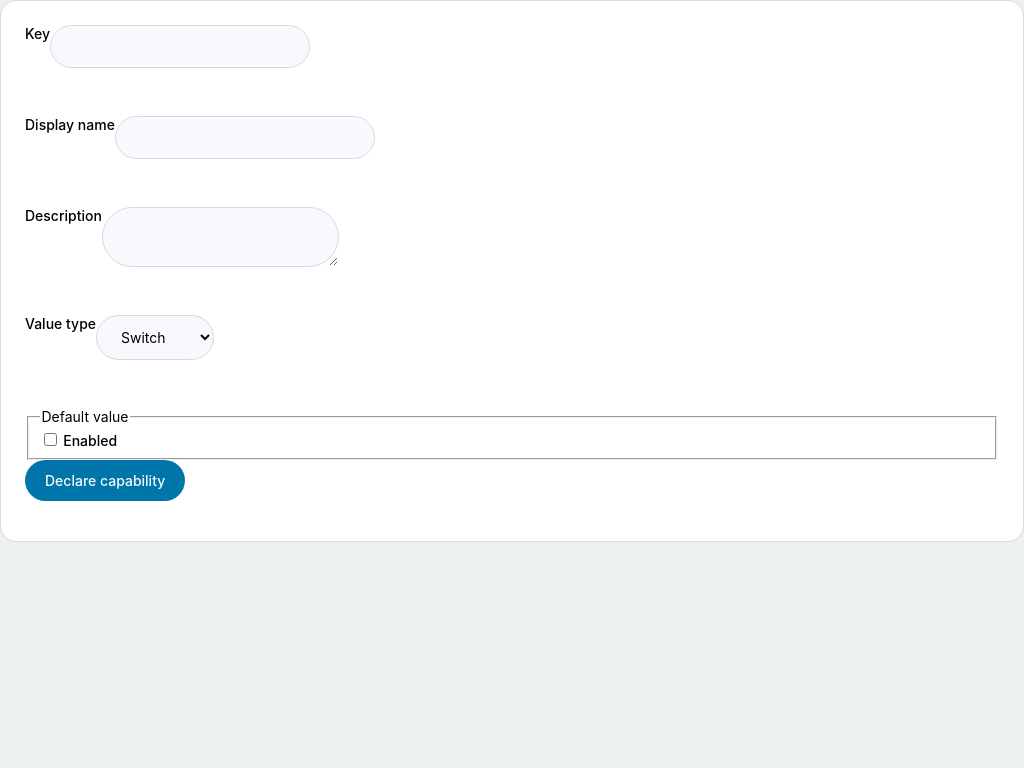
Scenario: CapabilityCreateForm › reports a rejected declaration through the shared error notice
Type "reports.monthly" into the field labelled "Key" at (180, 46), box [50, 25, 310, 68]
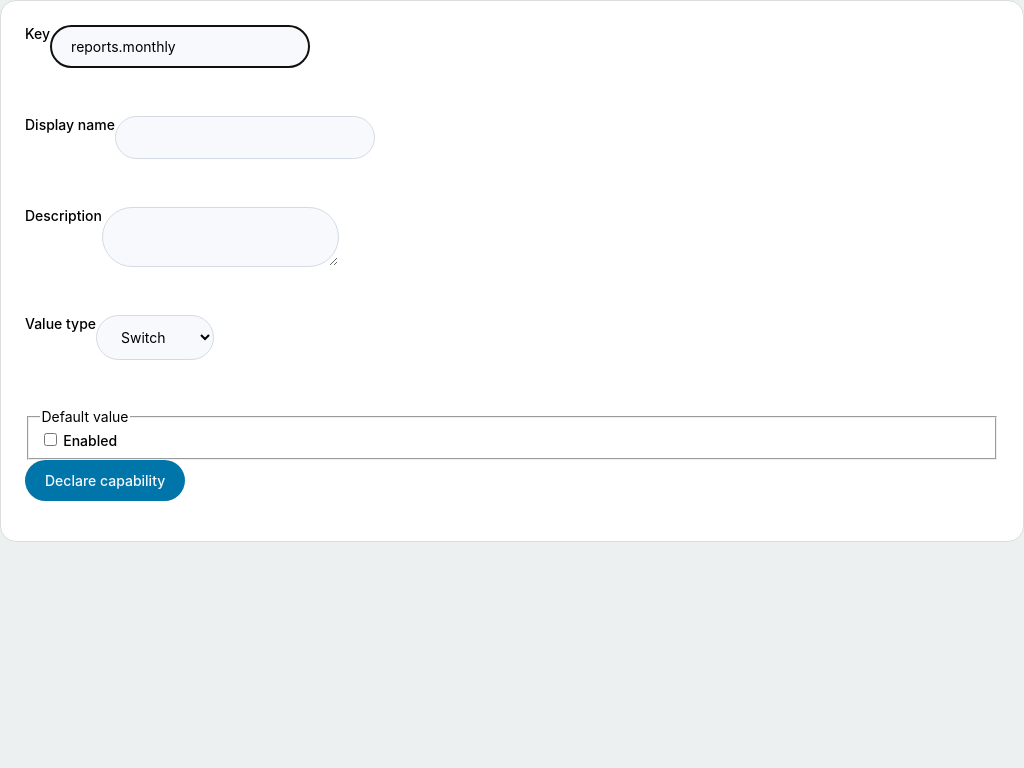
Type "Monthly reports" into the field labelled "Display name" at (245, 138), box [115, 116, 375, 159]
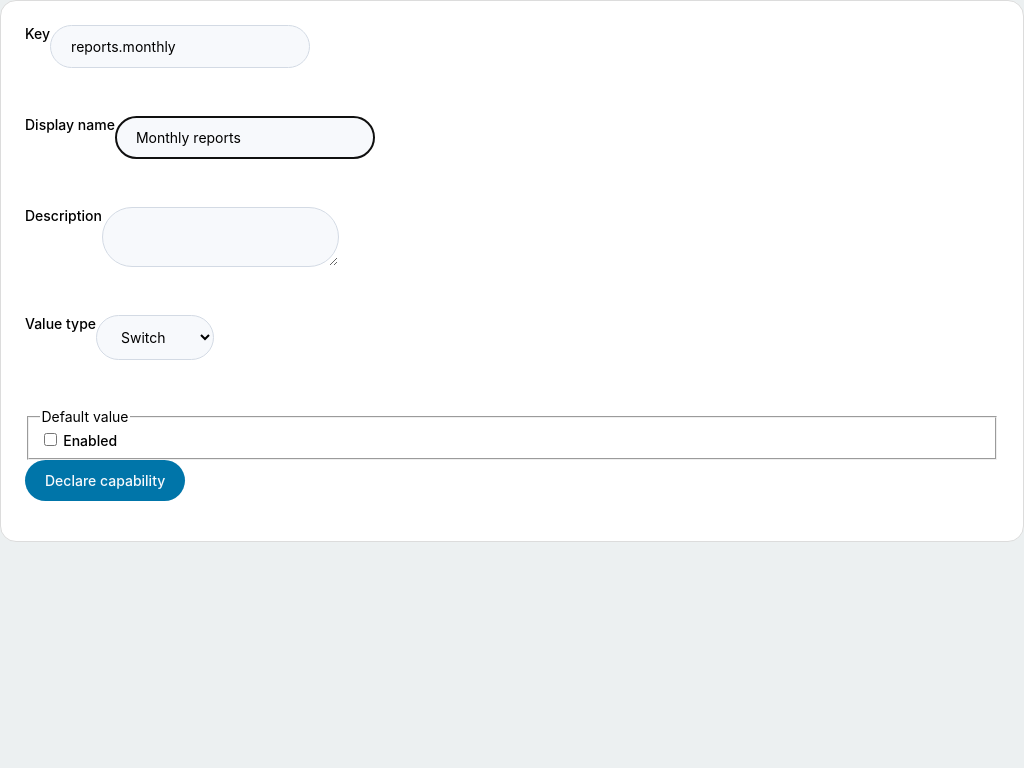
Click the button "Declare capability" at (105, 480), box [25, 460, 185, 501]
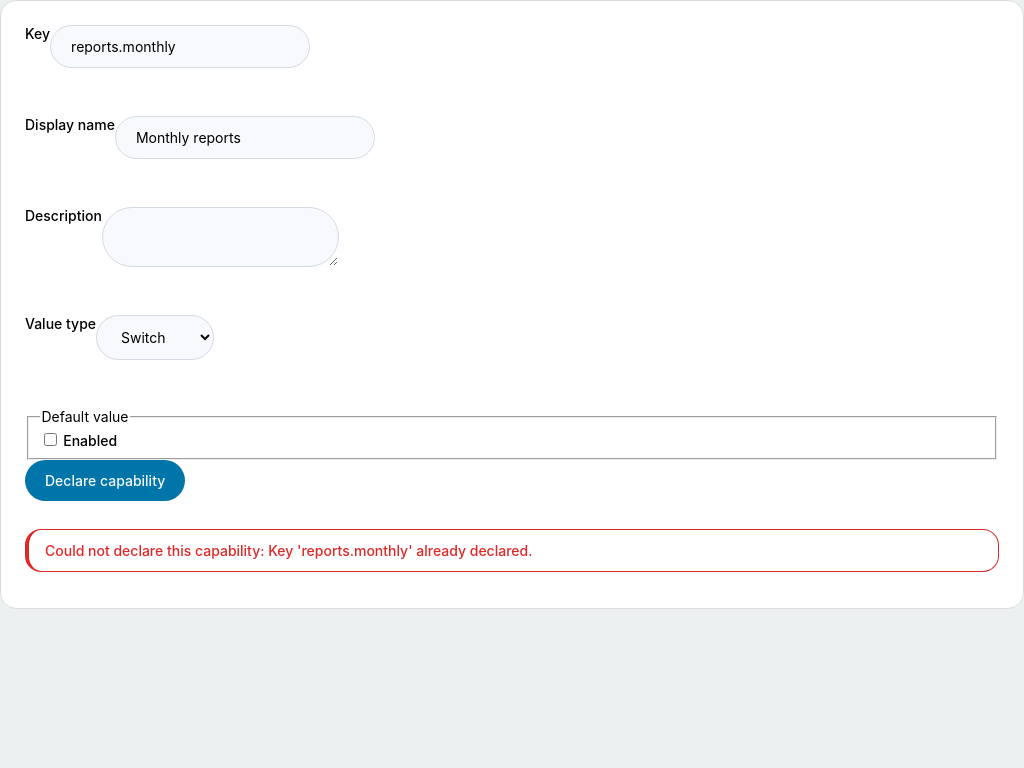
expect the message shows "Key 'reports.monthly' already declared.": met, box [268, 542, 532, 559]
